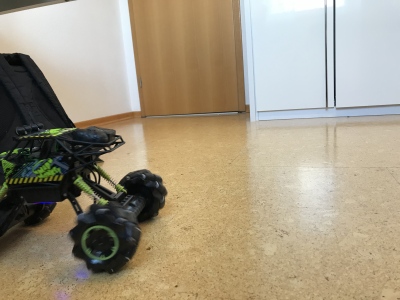remote control car: (1, 121, 169, 275)
